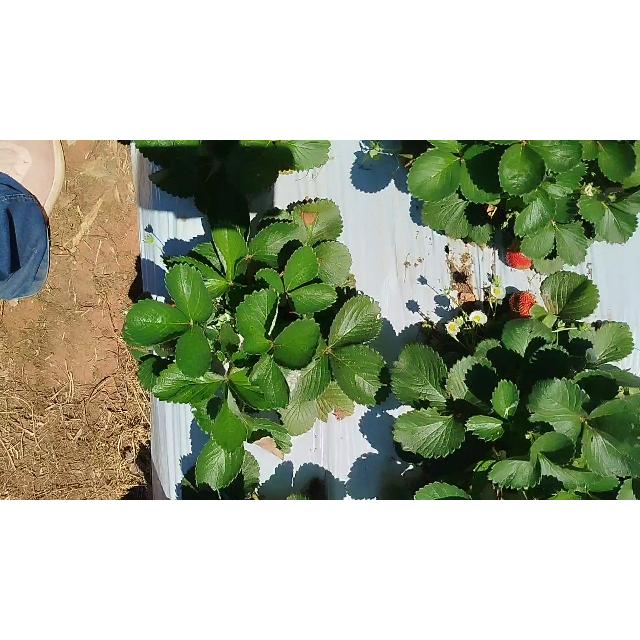maduro: (508, 290, 538, 318), (505, 250, 533, 270)
